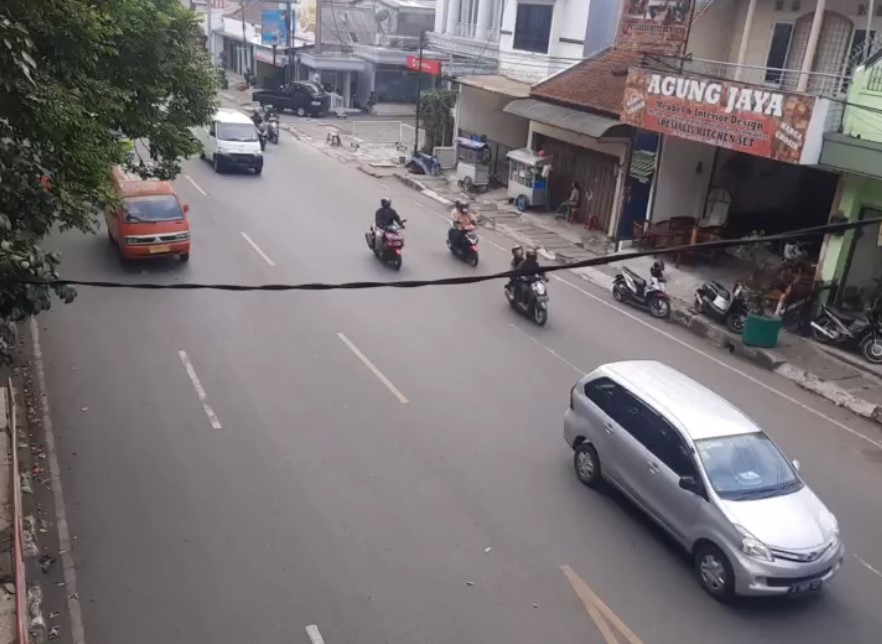mobil: (564, 350, 845, 606)
motor: (506, 243, 550, 329), (445, 198, 486, 265), (368, 198, 406, 268)
